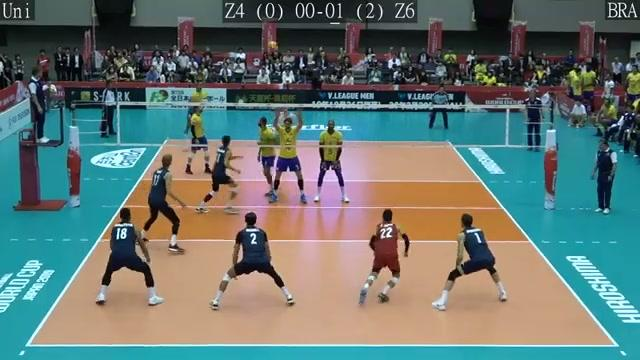ball: (266, 39, 280, 51)
